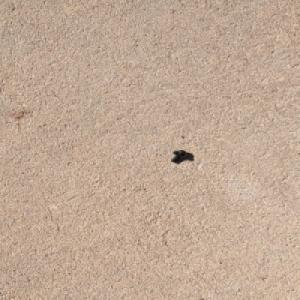BoltWasher: (170, 149, 188, 162)
